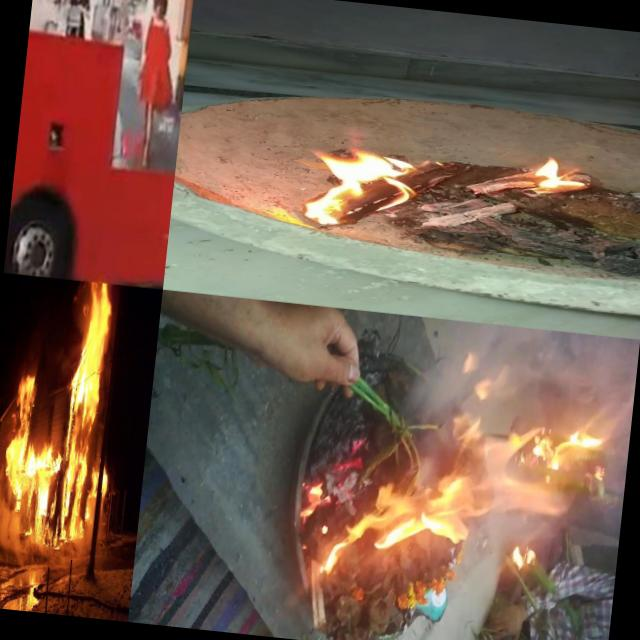fire: (2, 275, 122, 508), (407, 401, 538, 605), (297, 140, 430, 236), (350, 499, 416, 572), (428, 318, 478, 405), (525, 147, 596, 197), (459, 601, 524, 640), (25, 500, 87, 539), (99, 462, 111, 497)
smoke: (357, 312, 436, 503), (471, 322, 526, 416), (341, 566, 409, 640), (21, 534, 99, 578), (0, 498, 28, 564), (84, 506, 109, 542), (0, 458, 5, 498)
